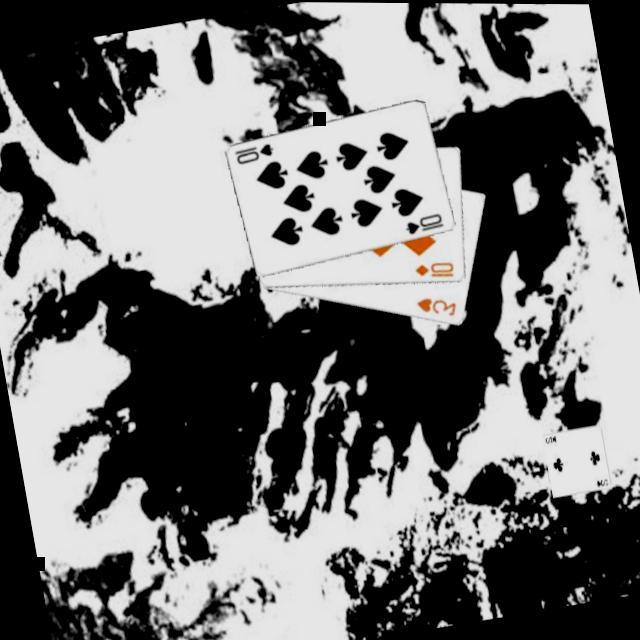10D: (412, 256, 460, 284)
10S: (402, 209, 449, 238), (233, 139, 280, 168)
3H: (414, 289, 462, 324)
